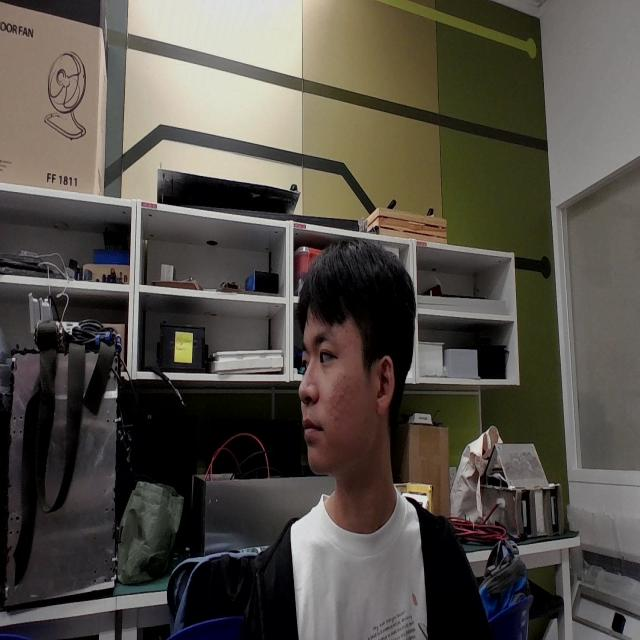Without Helmet: (282, 224, 434, 508)
